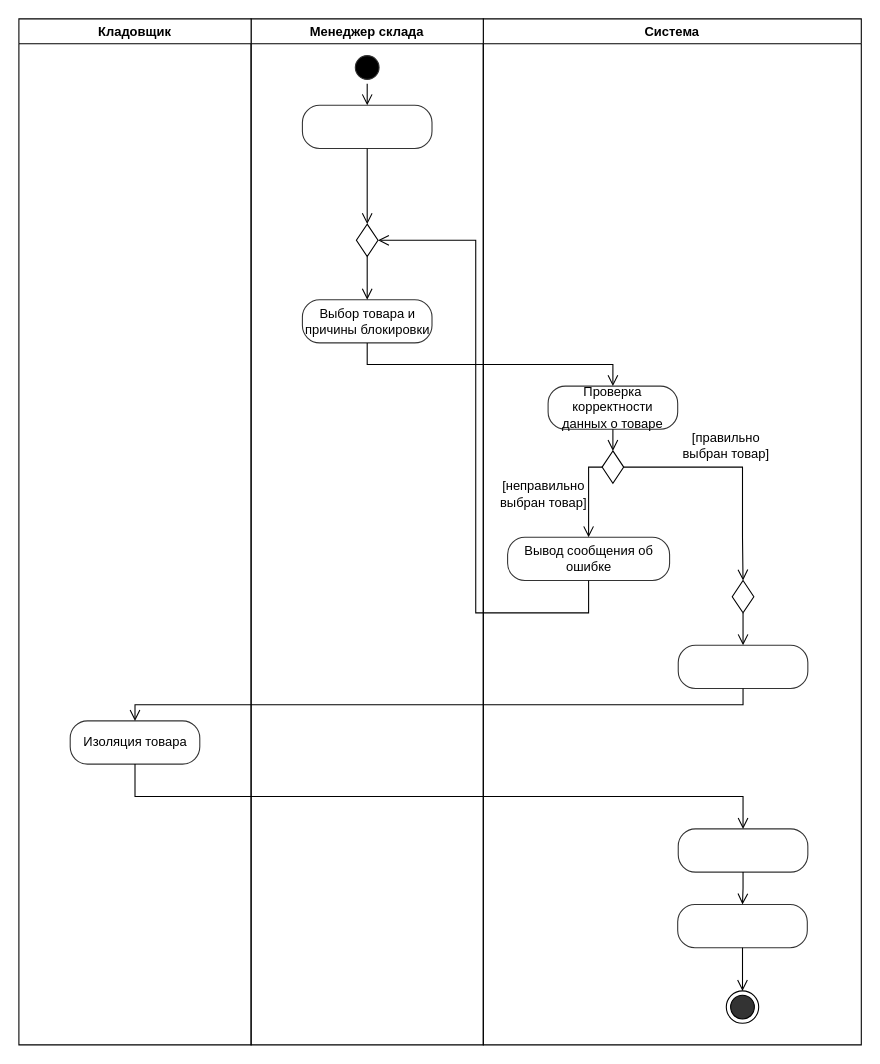
The diagram is 880 pixels wide and 1064 high, and some of its shapes have lost their labels. Each missing label, with the centre of its shape:
Выбор операции "Блокировка товара": (x=366, y=126)
Изменение статуса товара: (x=742, y=850)
Подтверждение блокировки: (x=742, y=925)
Проверка статуса товара: (x=742, y=666)
